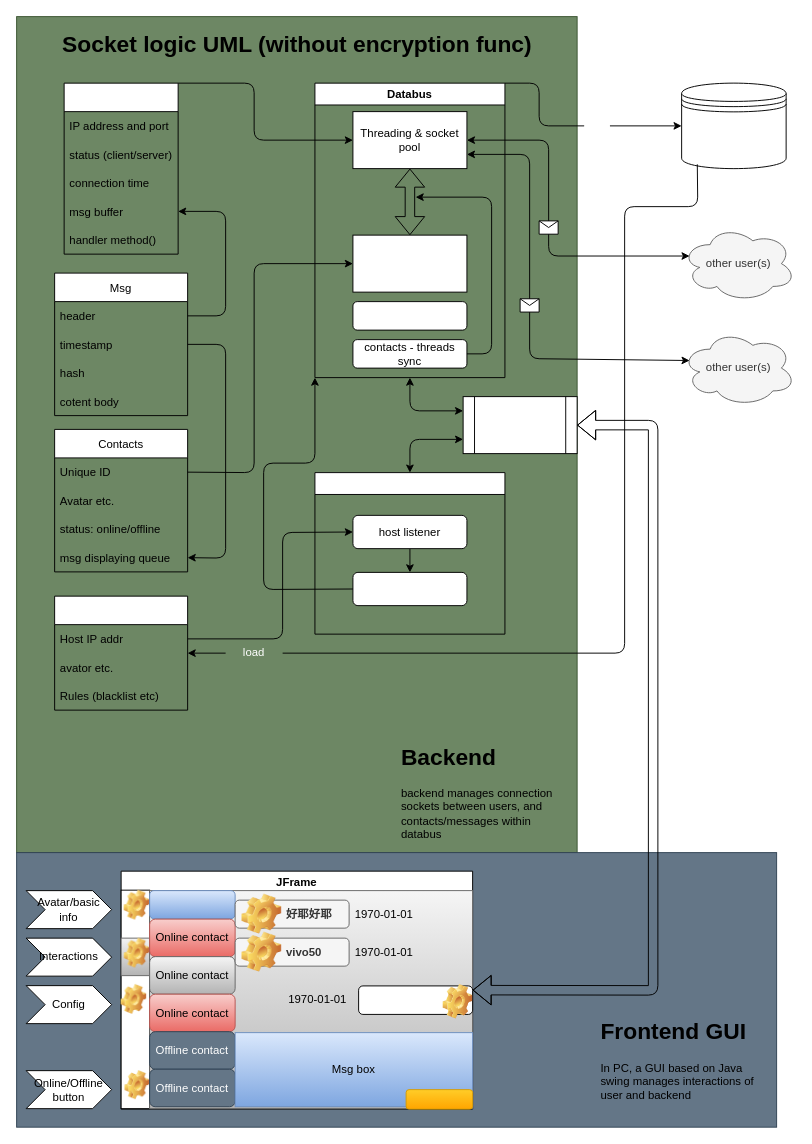
Image size: 812x1144. Some labels were removed from this diagram. The shapes that lost their labels are listed below. From the top down, each one's box as (x1, y1, x2, y2) in pixels, then its label:
(681, 82, 786, 169): offline contacts/msgs
(63, 82, 178, 254): Socket to other user
(352, 234, 467, 292): contacts pool
(352, 301, 467, 330): threads timer and watchdog
(462, 396, 577, 454): backend main process
(314, 472, 505, 634): Socket manager
(352, 571, 467, 606): socket balancer
(54, 595, 188, 710): Basic Info
(149, 890, 235, 919): Add contacts
(358, 985, 473, 1014): 好耶
(405, 1089, 473, 1109): send
